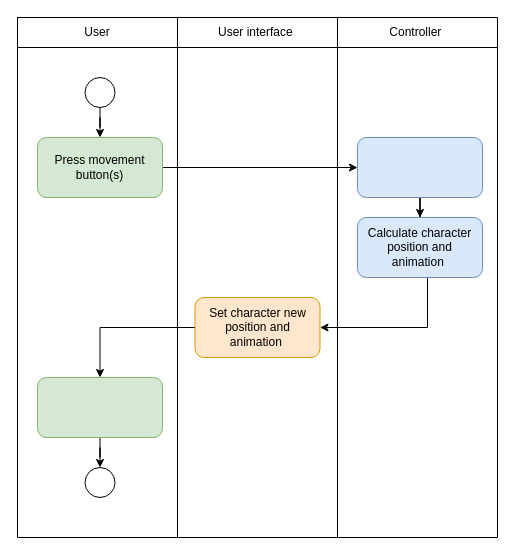
This 515x555 diagram has some shape labels left out. Here are the shapes that lost their labels. From the top down, the box of each, then its label:
(356, 136, 482, 198): Check conditions and values
(36, 376, 162, 438): Press Menu button
